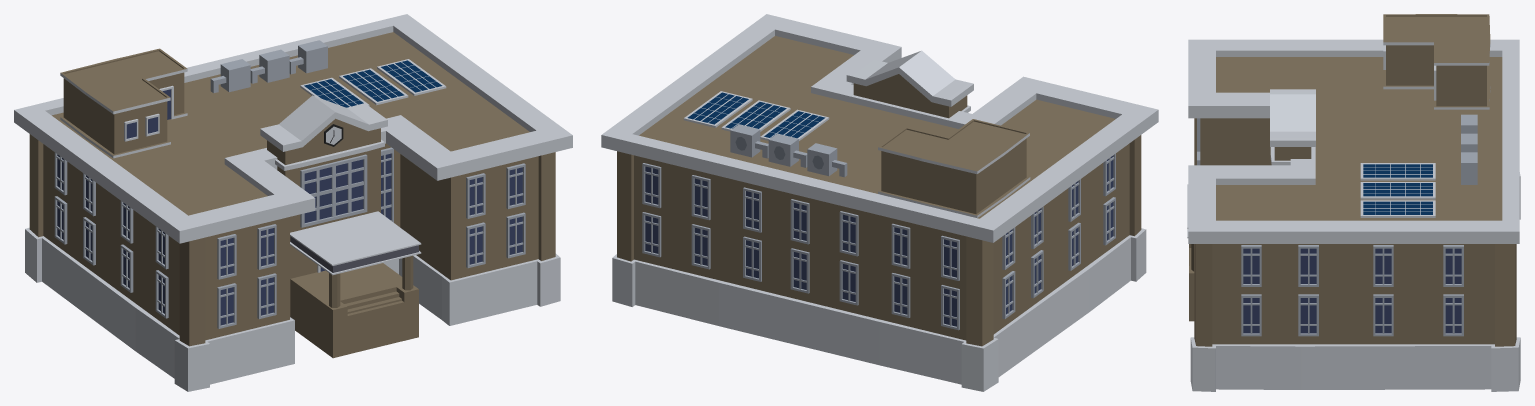
The model's file is Building_School.fbx.
3 renders of one model, left to right at view 1: azimuth 30°, elevation 25°; view 2: azimuth 150°, elevation 25°; view 3: azimuth 270°, elevation 25°, orthographic.
Parts seen in each view (by area): view 1: Building_School; view 2: Building_School; view 3: Building_School.
Part boxes in pixels (box(x1,y1,x2,y2)): Building_School: box(14, 14, 572, 391); Building_School: box(601, 14, 1158, 391); Building_School: box(1187, 14, 1520, 391).
Size of the model in its own units: 2467 by 1235 by 1811.
